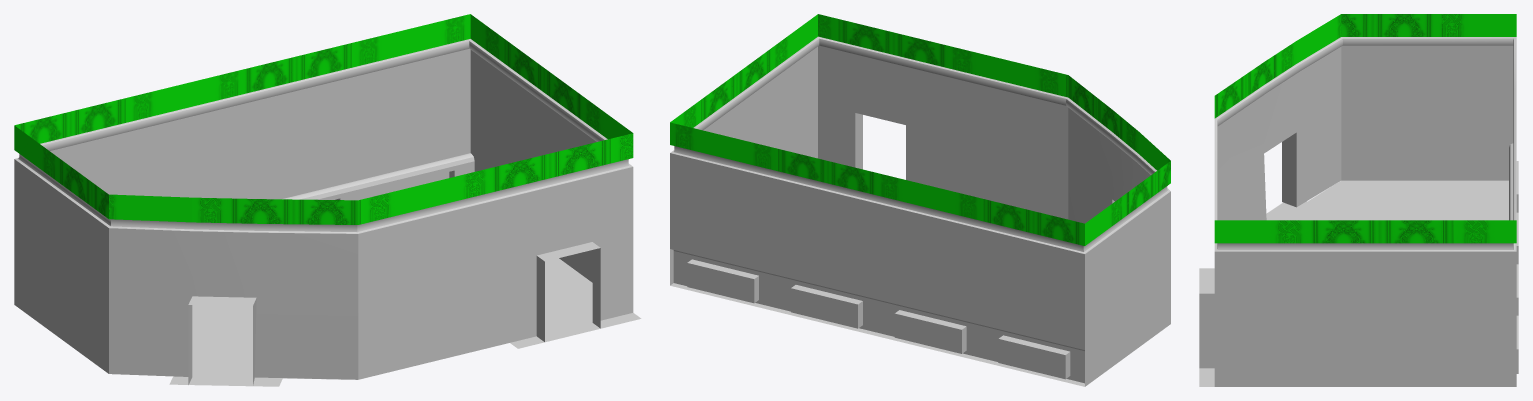
File: 서재_untiy.fbx
3 views of the same model, side by side, from view 1: azimuth 30°, elevation 25°; view 2: azimuth 150°, elevation 25°; view 3: azimuth 270°, elevation 25° (orthographic). The views are drawn at different scales.
Visible parts, largest first — view 1: 서재 벽, 서재 디테일, 서재 바닥; view 2: 서재 벽, 서재 디테일, 서재 바닥; view 3: 서재 벽, 서재 디테일, 서재 바닥.
Part boxes in pixels (x1,y1,x2,y2): 서재 벽: (14, 39, 633, 385); 서재 디테일: (14, 14, 633, 224); 서재 바닥: (169, 258, 641, 386); 서재 벽: (670, 36, 1170, 386); 서재 디테일: (670, 14, 1170, 245); 서재 바닥: (670, 283, 1084, 386); 서재 벽: (1199, 37, 1518, 386); 서재 디테일: (1214, 14, 1516, 243); 서재 바닥: (1199, 180, 1508, 386).
Size of the model in its own units: 526 by 198 by 344.
